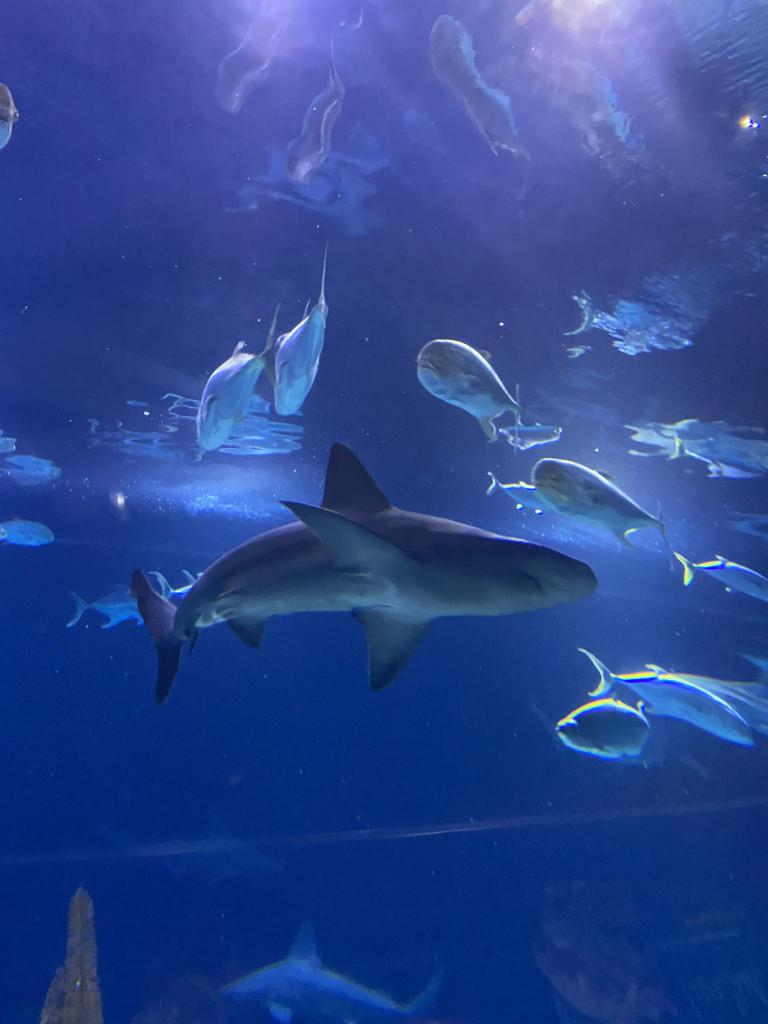fish: (576, 646, 754, 748), (532, 458, 670, 558), (194, 302, 282, 452), (415, 338, 519, 456), (273, 255, 329, 417), (556, 694, 652, 760), (673, 550, 767, 604), (65, 583, 143, 629), (147, 569, 203, 601), (0, 517, 55, 548), (0, 82, 19, 153)
shark: (129, 442, 598, 708), (215, 919, 445, 1023), (96, 808, 286, 892)
